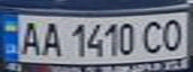0: (118, 19, 139, 56)
1: (66, 20, 87, 57), (103, 20, 121, 57)
4: (84, 20, 106, 57)
A: (36, 19, 66, 57), (15, 18, 45, 56)
C: (139, 17, 169, 55)
O: (157, 16, 190, 52)
